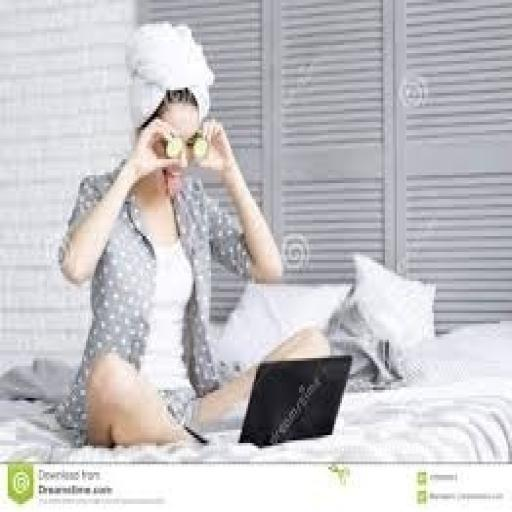using_laptop: (182, 350, 354, 448)
